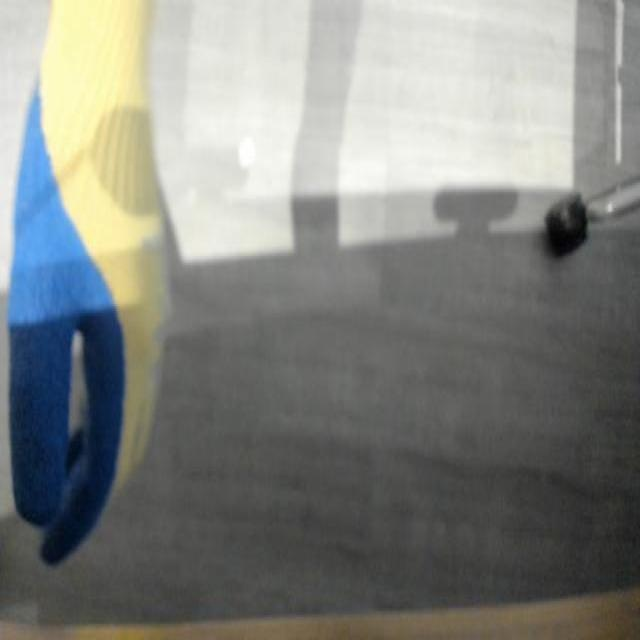Guantes: (1, 0, 188, 547)
